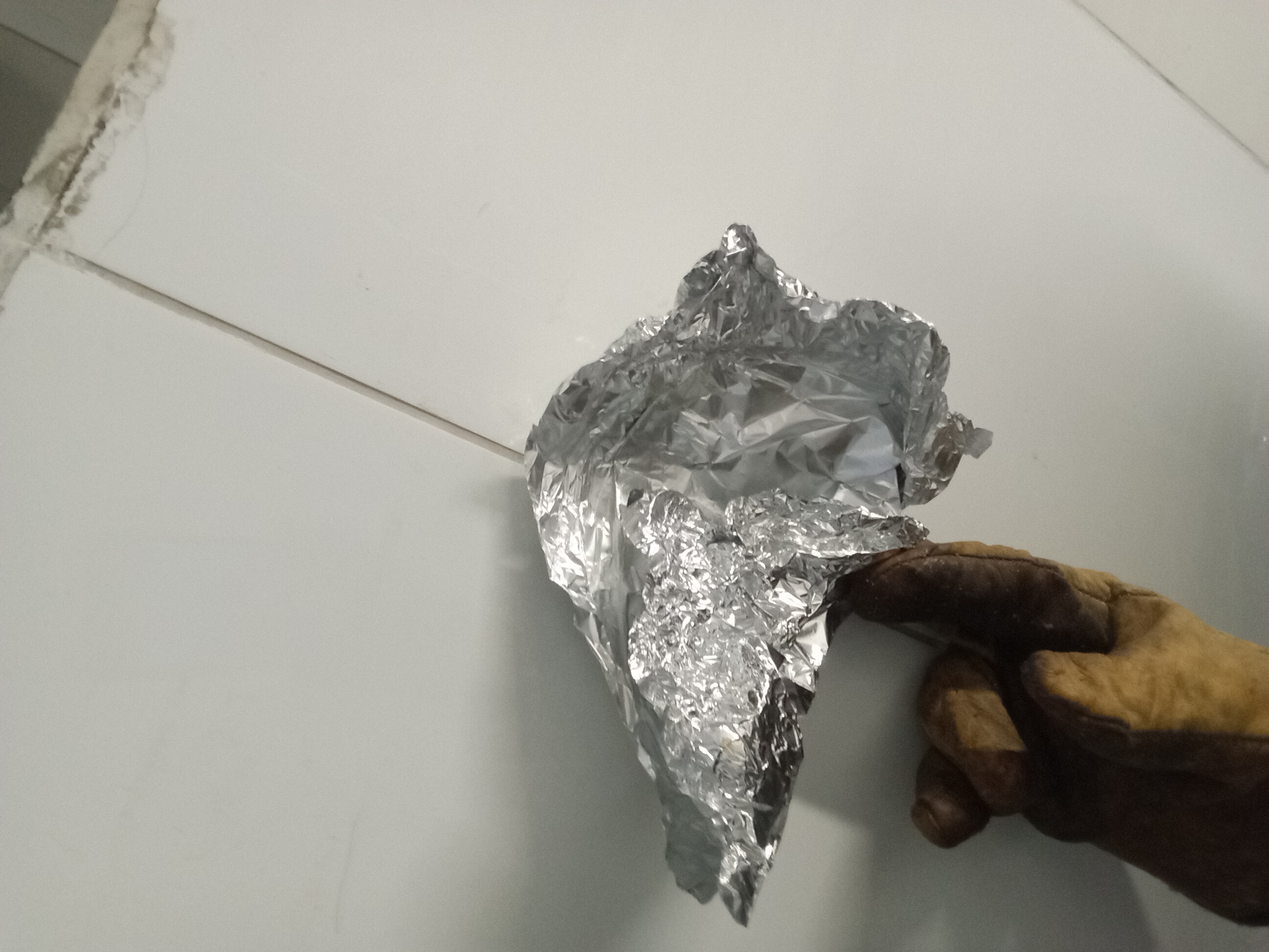Ordinario: (519, 219, 993, 925)
